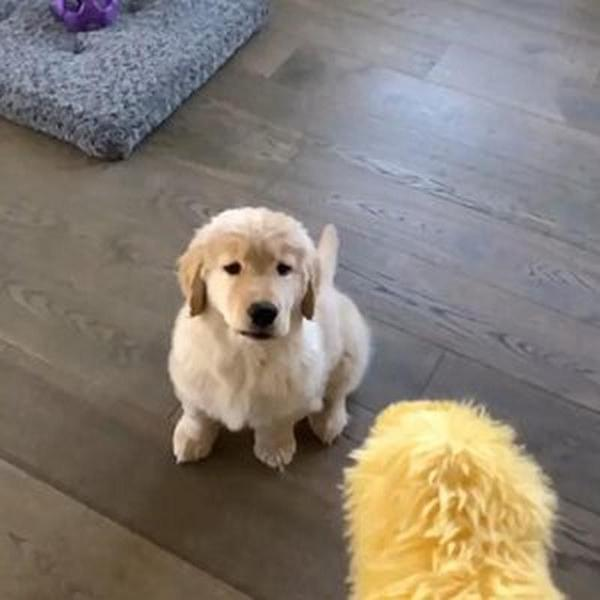allqu: (167, 199, 375, 481)
